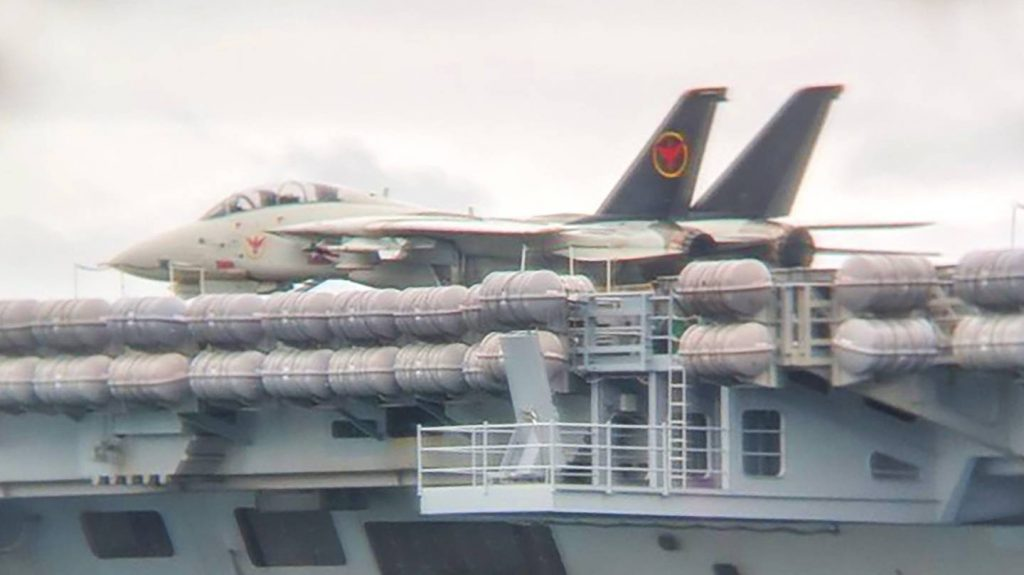F14: (96, 82, 943, 301)
